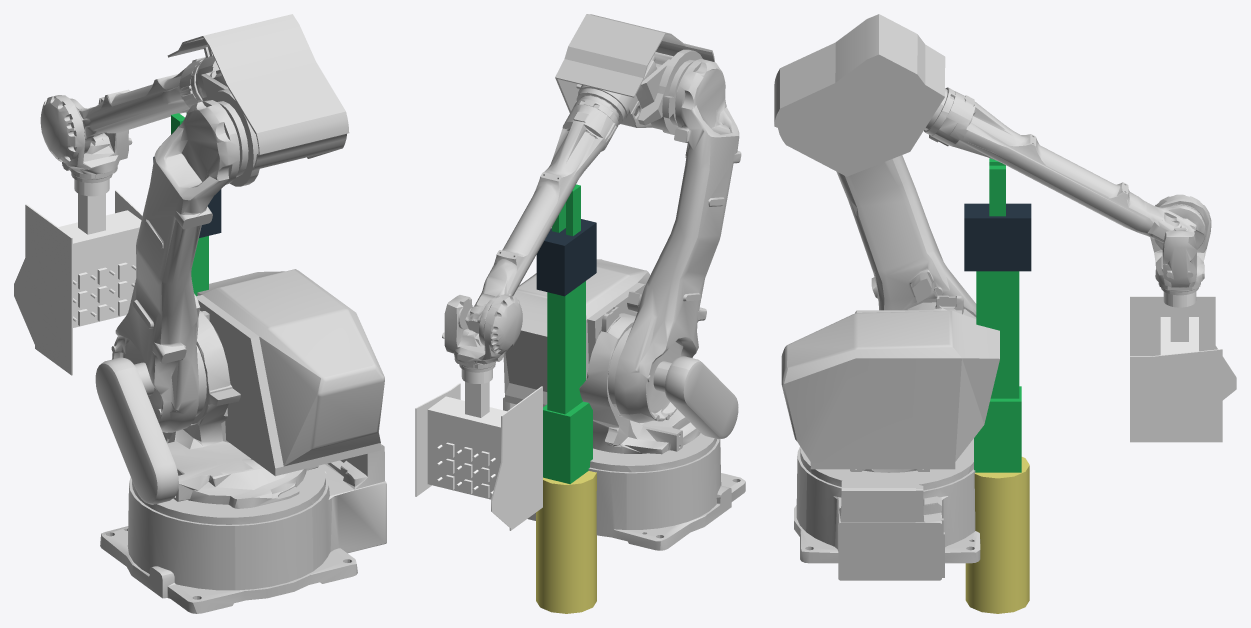
3 views of the same model, side by side, from view 1: azimuth 30°, elevation 25°; view 2: azimuth 150°, elevation 25°; view 3: azimuth 270°, elevation 25° (orthographic). The views are drawn at different scales.
Parts seen in each view (by area): view 1: N_1344, N_1572, N_1727, N_2519, N_2291, N_2399, N_2007, elbow, suctionTool; view 2: N_1727, N_1344, N_2291, N_1572, N_2519, N_2399, visualJoint, elbow, N_2007, shoulder, suctionTool, gripperLeft; view 3: N_1344, N_2519, N_1572, N_2291, N_1727, N_2399, visualJoint, suctionTool, elbow, N_2007, shoulder, gripperRight.
Boxes of the visible parts, x1=… form: N_1344: x1=95, y1=269, x2=384, y2=508; N_1572: x1=100, y1=444, x2=386, y2=613; N_1727: x1=111, y1=100, x2=239, y2=432; N_2519: x1=167, y1=14, x2=349, y2=186; N_2291: x1=14, y1=179, x2=142, y2=375; N_2399: x1=70, y1=57, x2=205, y2=153; N_2007: x1=40, y1=95, x2=132, y2=183; elbow: x1=191, y1=236, x2=208, y2=296; suctionTool: x1=153, y1=157, x2=221, y2=237; N_1727: x1=608, y1=58, x2=741, y2=423; N_1344: x1=503, y1=259, x2=738, y2=454; N_2291: x1=415, y1=369, x2=542, y2=530; N_1572: x1=503, y1=397, x2=745, y2=550; N_2519: x1=555, y1=14, x2=714, y2=134; N_2399: x1=465, y1=99, x2=618, y2=345; visualJoint: x1=536, y1=471, x2=596, y2=613; elbow: x1=547, y1=281, x2=585, y2=414; N_2007: x1=442, y1=294, x2=522, y2=372; shoulder: x1=543, y1=401, x2=592, y2=483; suctionTool: x1=536, y1=219, x2=596, y2=296; gripperLeft: x1=566, y1=184, x2=580, y2=235; N_1344: x1=781, y1=295, x2=999, y2=472; N_2519: x1=774, y1=14, x2=947, y2=176; N_1572: x1=794, y1=438, x2=980, y2=580; N_2291: x1=1130, y1=291, x2=1236, y2=442; N_1727: x1=836, y1=155, x2=976, y2=317; N_2399: x1=924, y1=87, x2=1205, y2=250; visualJoint: x1=965, y1=457, x2=1029, y2=613; suctionTool: x1=964, y1=203, x2=1031, y2=271; elbow: x1=976, y1=271, x2=1019, y2=398; N_2007: x1=1150, y1=194, x2=1211, y2=295; shoulder: x1=974, y1=386, x2=1021, y2=472; gripperRight: x1=989, y1=165, x2=1005, y2=216.
Size of the model in its own units: 1.14 by 2.92 by 2.17.
